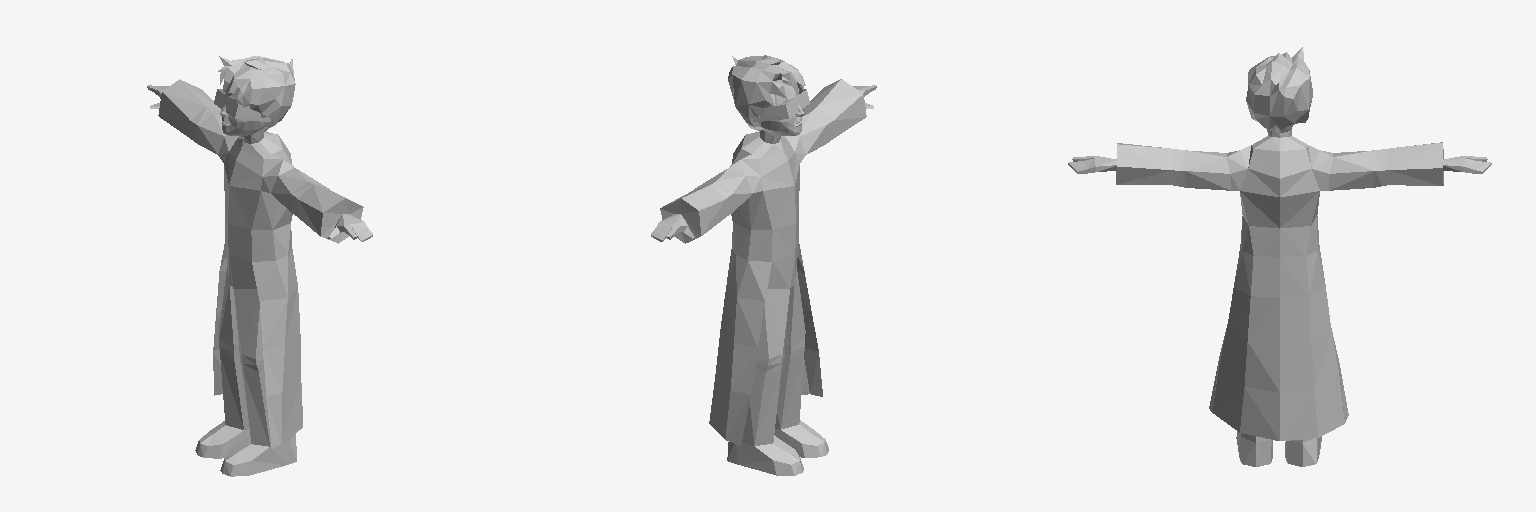
Rendered from skharryMesh.obj.
3 views of the same model, side by side, from view 1: azimuth 30°, elevation 25°; view 2: azimuth 150°, elevation 25°; view 3: azimuth 270°, elevation 25° (orthographic).
Visible parts, largest first — view 1: skharryTex0, skharryTex1, skharryTex3, skharryTex2; view 2: skharryTex0, skharryTex1, skharryTex3, skharryTex2; view 3: skharryTex1, skharryTex0.
Boxes of the visible parts, box(x1,y1,x2,y2) form: skharryTex0: box(147, 56, 372, 446); skharryTex1: box(195, 132, 302, 476); skharryTex3: box(220, 84, 274, 143); skharryTex2: box(214, 89, 270, 121); skharryTex0: box(651, 55, 876, 445); skharryTex1: box(709, 131, 828, 475); skharryTex3: box(747, 83, 803, 143); skharryTex2: box(753, 89, 809, 121); skharryTex1: box(1209, 136, 1348, 466); skharryTex0: box(1068, 47, 1491, 442).
Bounding box in the file's own units: 20.32 × 82.52 × 80.35.